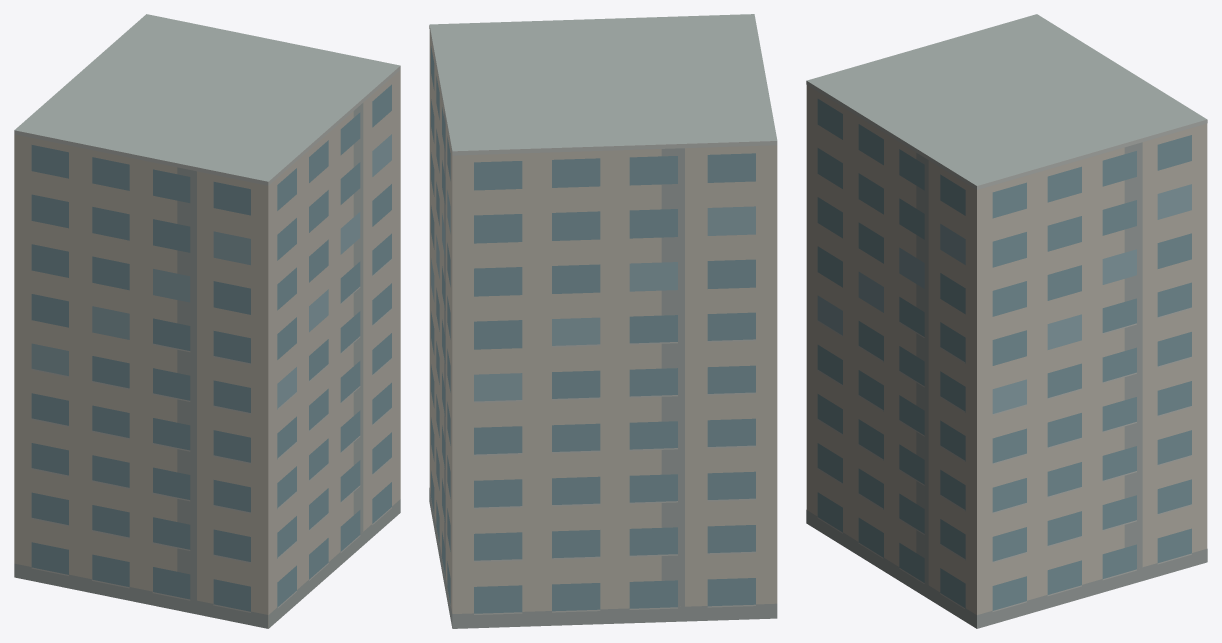
The model's file is residential-2a9c0ee6-5ca6-4915-9cbb-e0482b8fe48b.glb.
3 views of the same model, side by side, from view 1: azimuth 30°, elevation 25°; view 2: azimuth 150°, elevation 25°; view 3: azimuth 270°, elevation 25° (orthographic). The views are drawn at different scales.
Visible parts, largest first — view 1: residential-2a9c0ee6-5ca6-4915-9cbb-e0482b8fe48b.tmp; view 2: residential-2a9c0ee6-5ca6-4915-9cbb-e0482b8fe48b.tmp; view 3: residential-2a9c0ee6-5ca6-4915-9cbb-e0482b8fe48b.tmp.
Part boxes in pixels (<box>): residential-2a9c0ee6-5ca6-4915-9cbb-e0482b8fe48b.tmp: <box>14,14,400,628</box>; residential-2a9c0ee6-5ca6-4915-9cbb-e0482b8fe48b.tmp: <box>429,14,777,628</box>; residential-2a9c0ee6-5ca6-4915-9cbb-e0482b8fe48b.tmp: <box>806,14,1207,628</box>.
Bounding box in the file's own units: 22.51 × 27 × 22.16.
